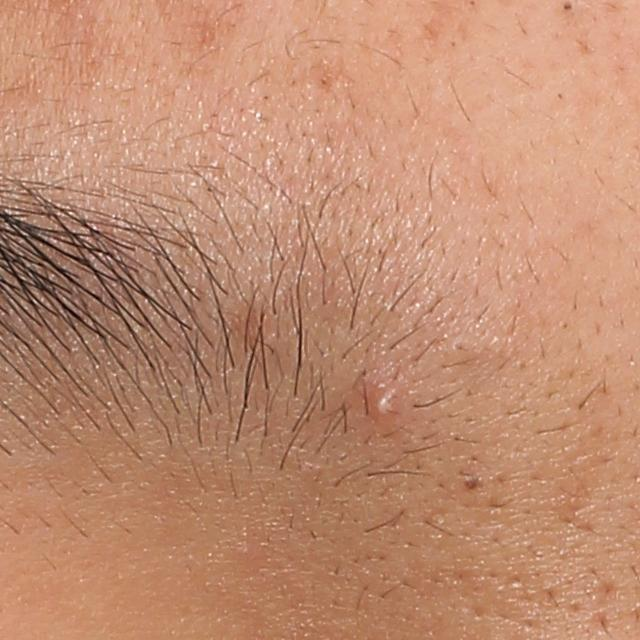pustule: (374, 384, 398, 422)
